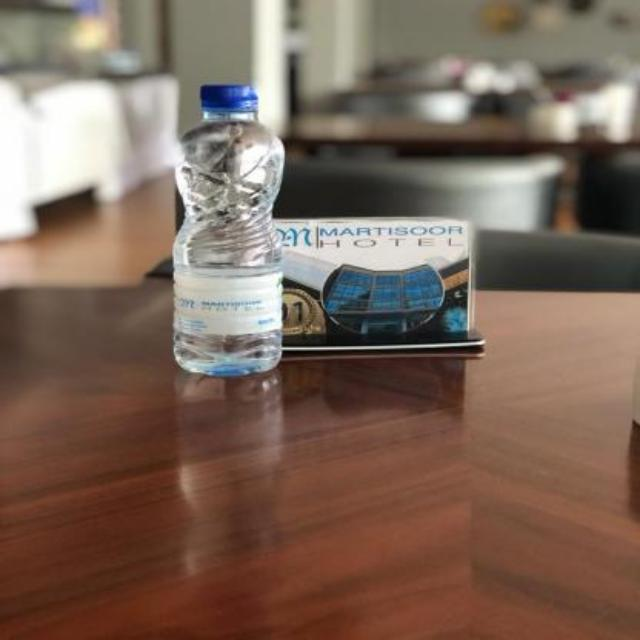bottle: (152, 77, 296, 393)
